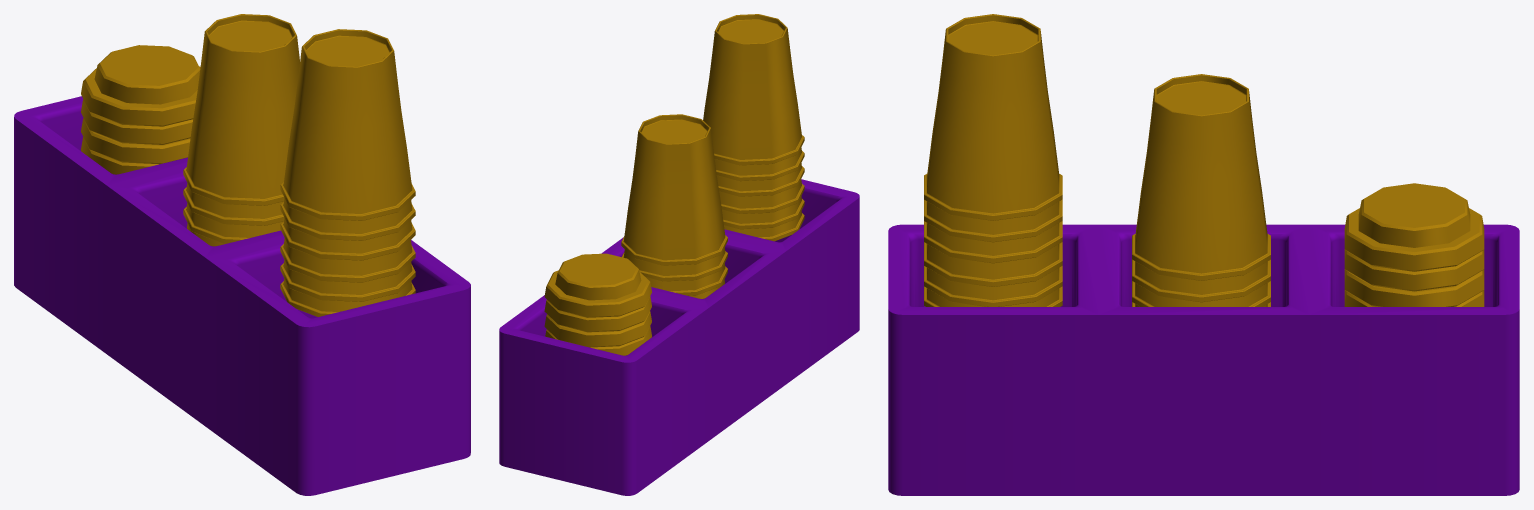
Rendered from CoffeeRack.fbx.
3 views of the same model, side by side, from view 1: azimuth 30°, elevation 25°; view 2: azimuth 150°, elevation 25°; view 3: azimuth 270°, elevation 25° (orthographic). The views are drawn at different scales.
Visible parts, largest first — view 1: SM_CoffeCupRack; view 2: SM_CoffeCupRack; view 3: SM_CoffeCupRack.
Boxes of the visible parts, x1,y1,x2,y2 form: SM_CoffeCupRack: [14, 14, 470, 495]; SM_CoffeCupRack: [499, 14, 859, 495]; SM_CoffeCupRack: [888, 14, 1519, 495].
Bounding box in the file's own units: 15.65 × 33.89 × 46.19.
